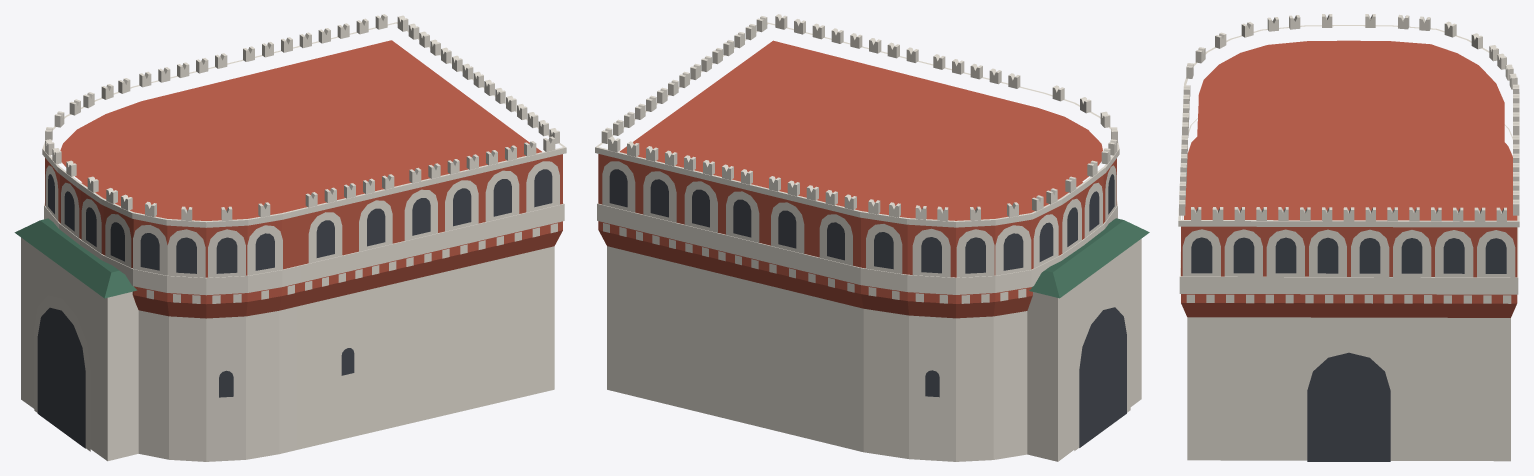
The model's file is moscow-kremlin-kutafya-tower.glb.
The picture shows the model from 3 angles, left to right: view 1: azimuth 30°, elevation 25°; view 2: azimuth 150°, elevation 25°; view 3: azimuth 270°, elevation 25°; orthographic projection.
Visible parts, largest first — view 1: Kutafya Tower; view 2: Kutafya Tower; view 3: Kutafya Tower.
Part boxes in pixels (x1,y1,x2,y2): Kutafya Tower: (14,14,566,461); Kutafya Tower: (595,14,1149,461); Kutafya Tower: (1178,14,1519,461).
Bounding box in the file's own units: 23.48 × 13.5 × 16.42.
